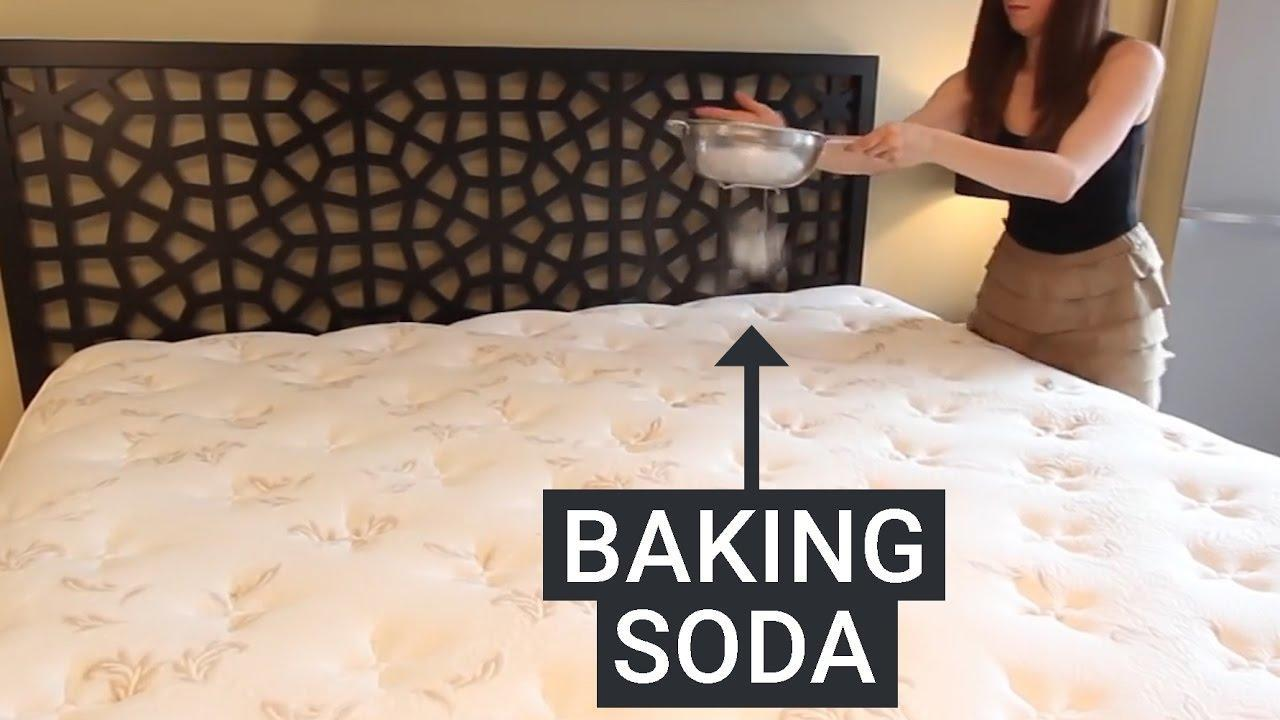Bed-Mattress: (10, 266, 1277, 720)
